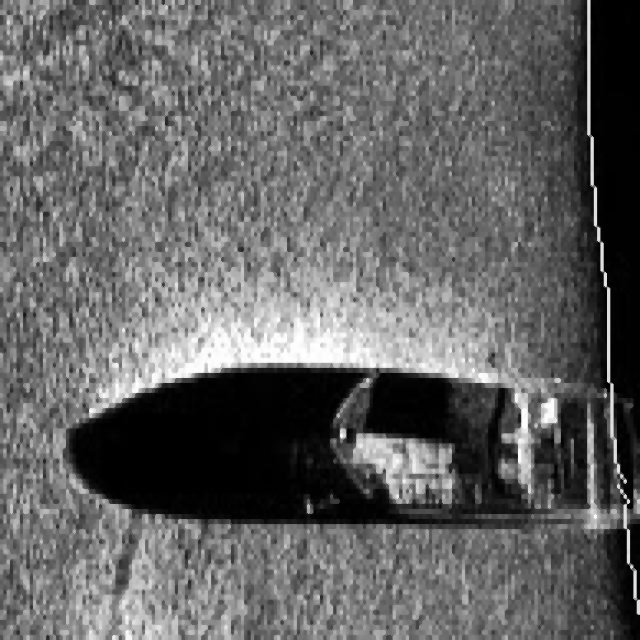Ship: (320, 348, 640, 534)
